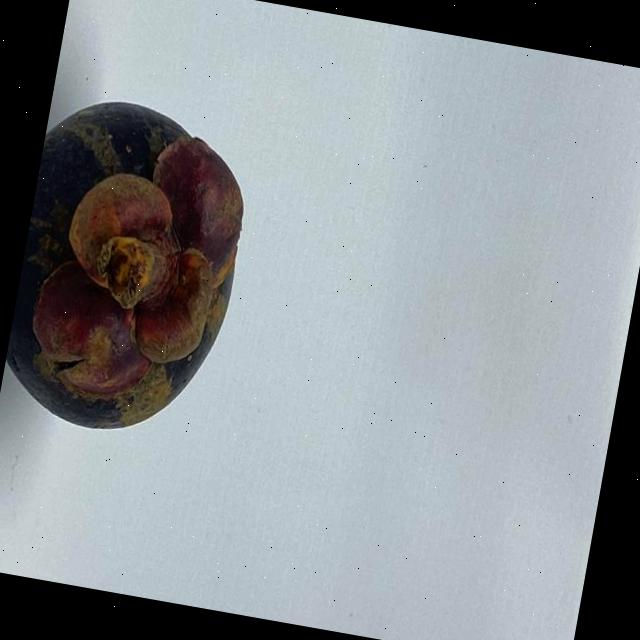mangosteen: (0, 76, 306, 473)
